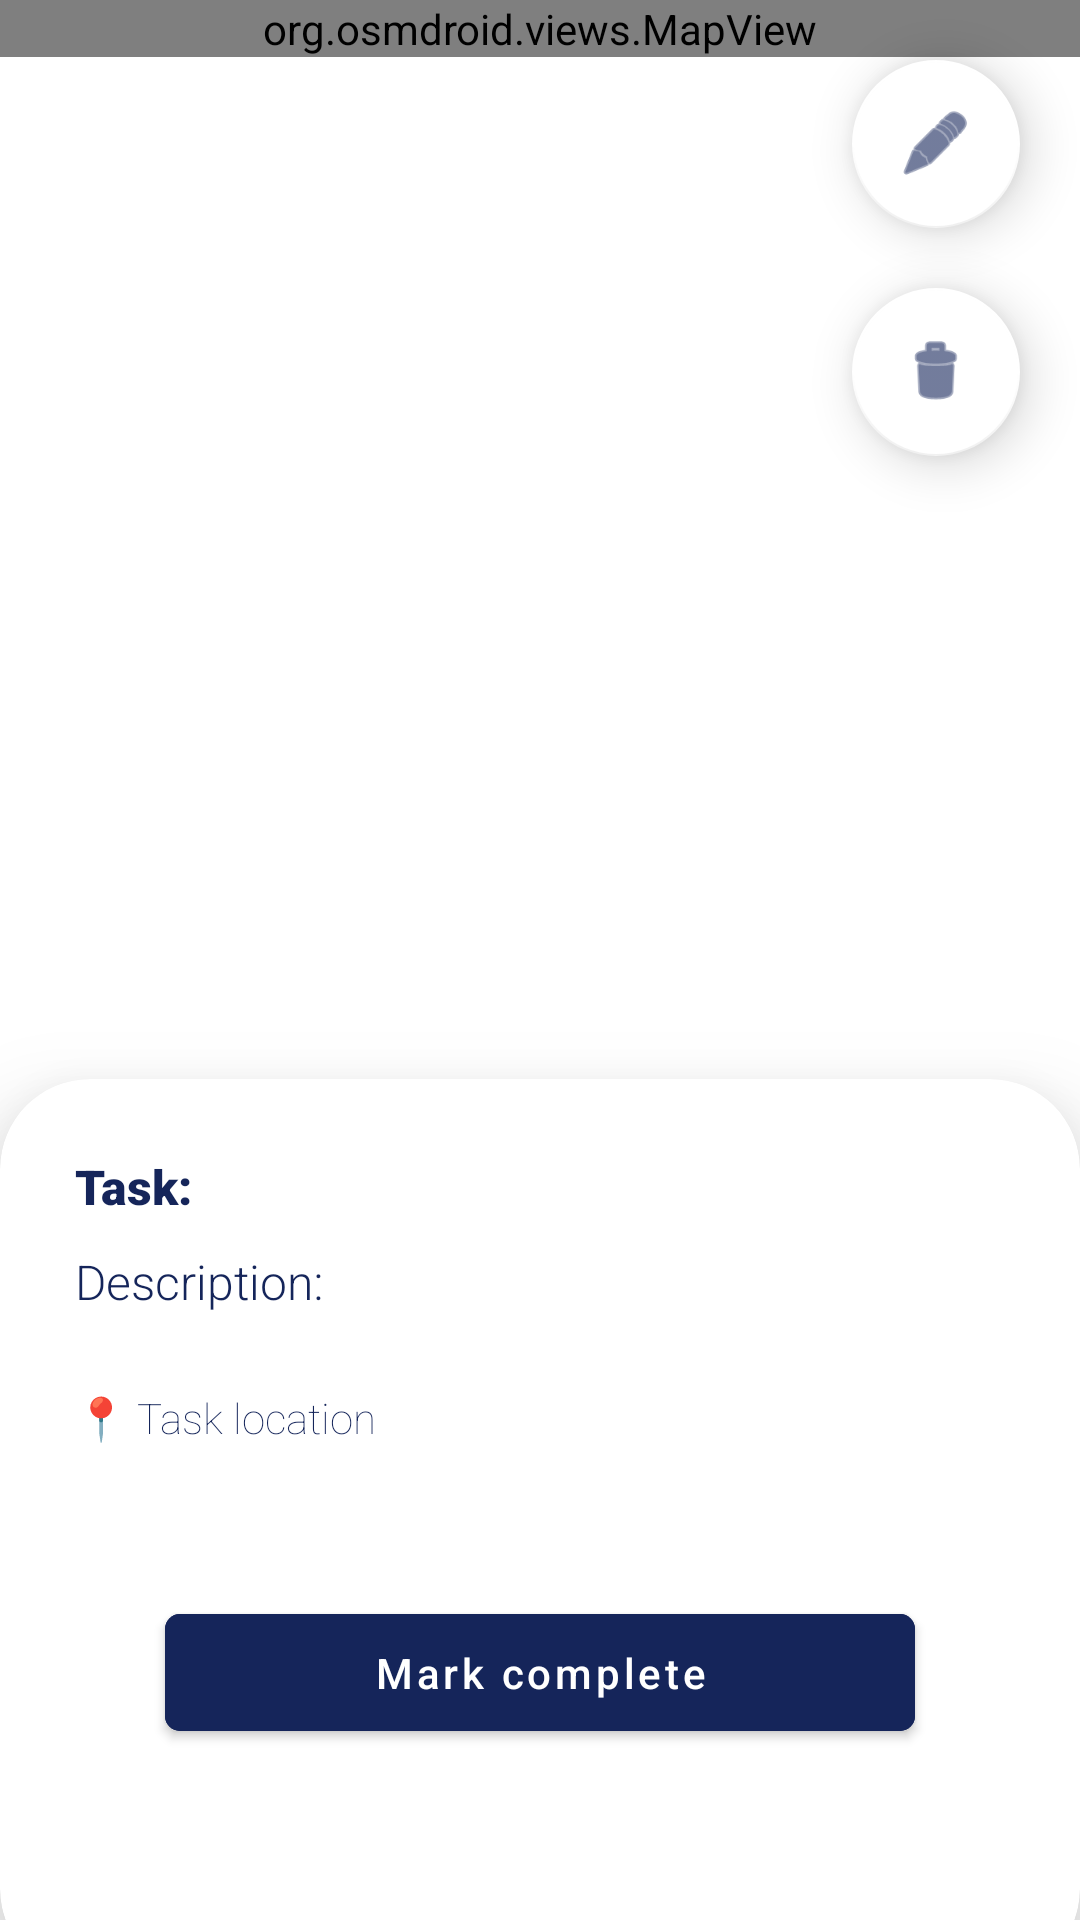

Named icons in this screenshot (1080x1920) and their bounding boxes, [x1,y1,x2,y2]:
edit: [904,110,1020,219]
